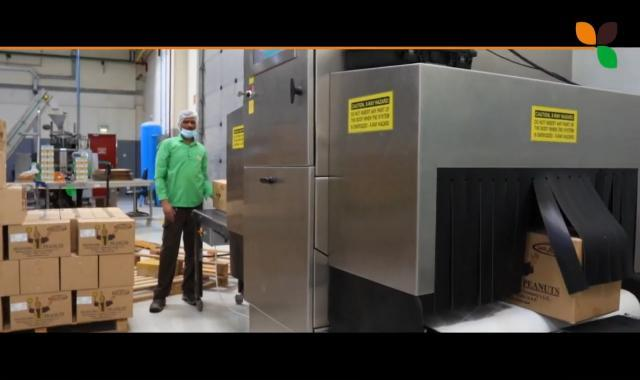Hairnet: (176, 107, 199, 130)
Mask: (179, 130, 198, 137)
No_Apron: (157, 140, 207, 206)
No_Glove: (157, 199, 177, 219)
